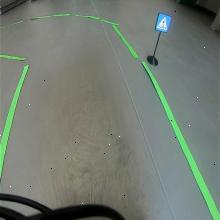crosswalk: (155, 12, 172, 34)
